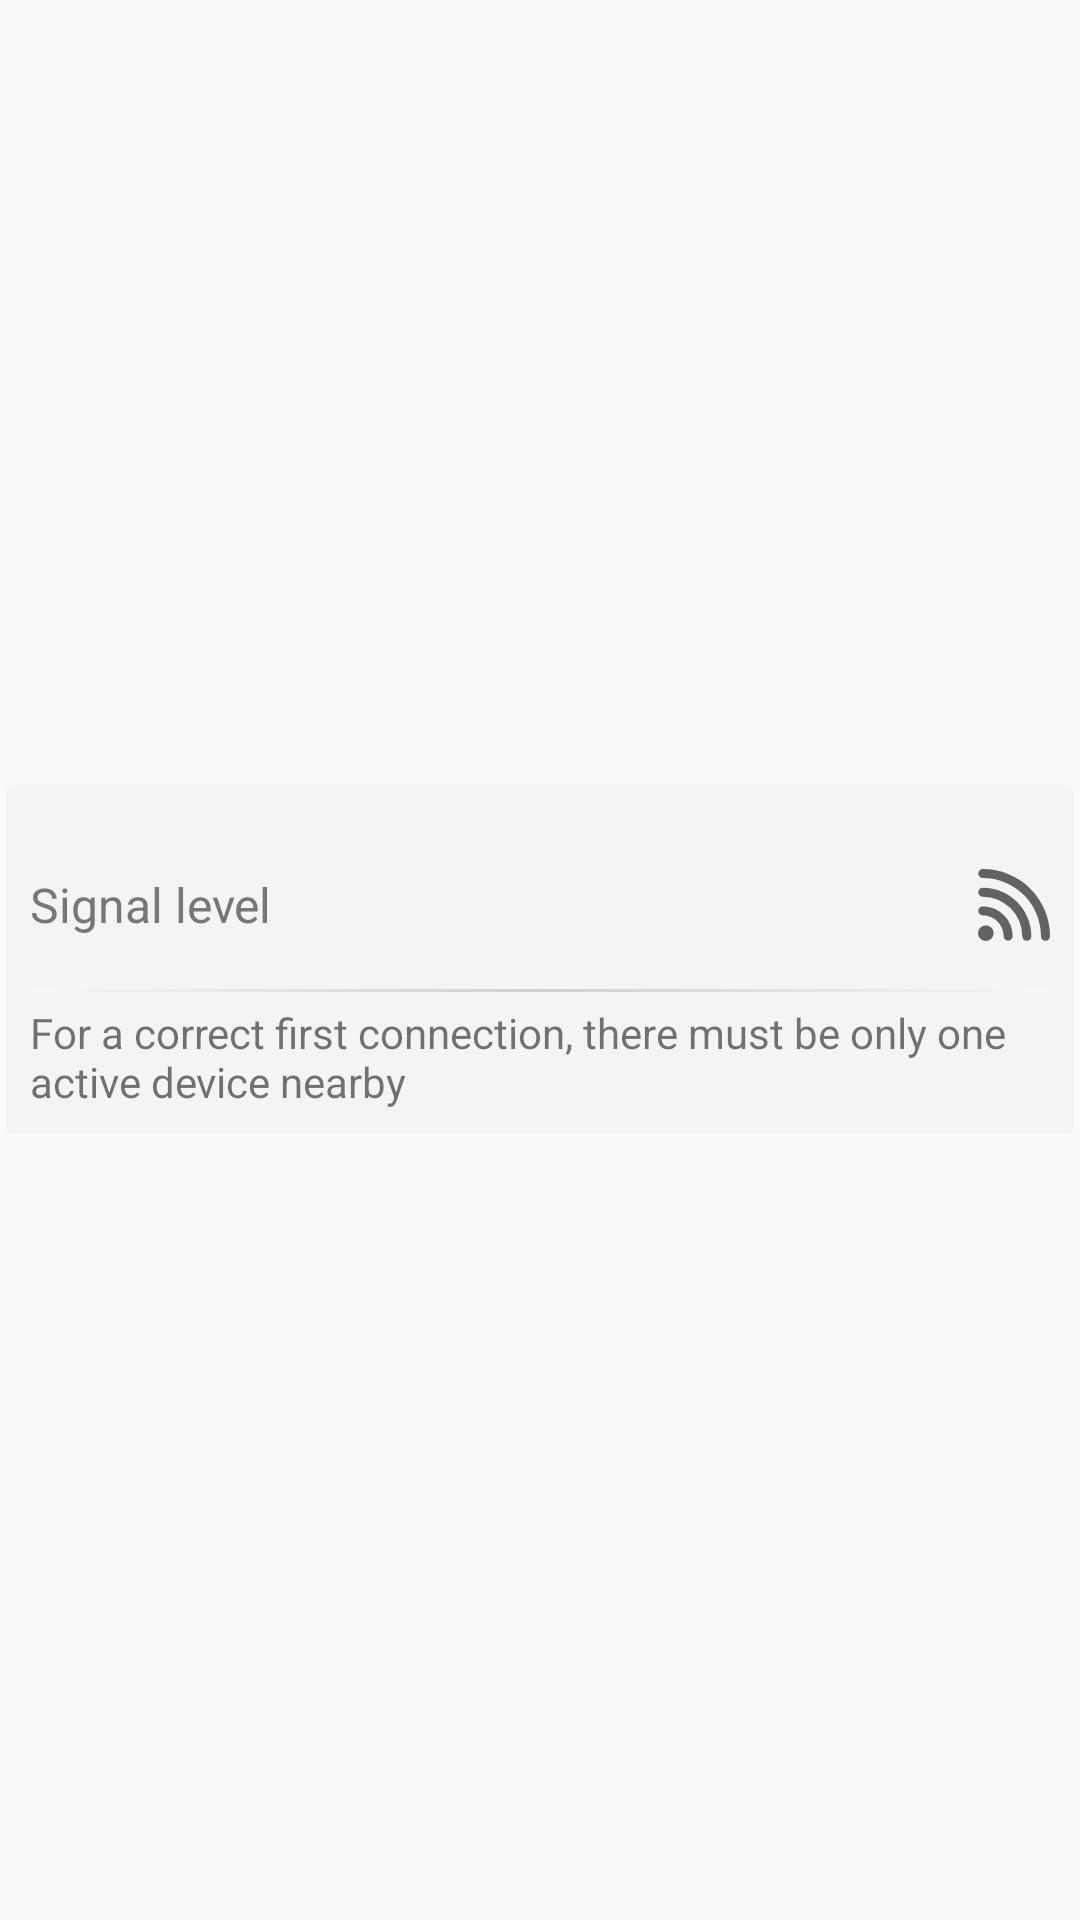

Screen size 1080x1920. Icon name, then its center in pixels as (x,y):
signal: (1014,905)
